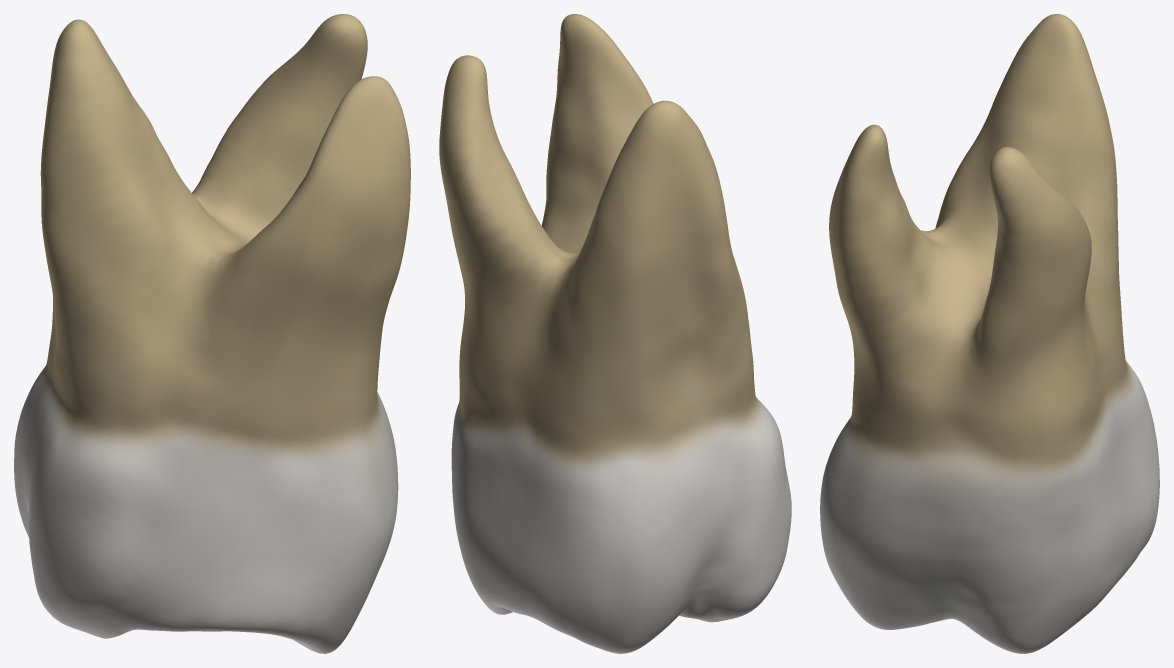
Rendered from maxillary_first_molar.glb.
The picture shows the model from 3 angles, left to right: view 1: azimuth 30°, elevation 25°; view 2: azimuth 150°, elevation 25°; view 3: azimuth 270°, elevation 25°; orthographic projection. The views are drawn at different scales.
Parts seen in each view (by area): view 1: Object_2; view 2: Object_2; view 3: Object_2.
Part boxes in pixels (left/top/right/bottom): Object_2: left=14, top=14, right=410, bottom=653; Object_2: left=439, top=14, right=791, bottom=653; Object_2: left=820, top=14, right=1159, bottom=653.
Bounding box in the file's own units: 0.4533 × 0.7784 × 0.4332.
Materials: 1 (1 with a texture image).
